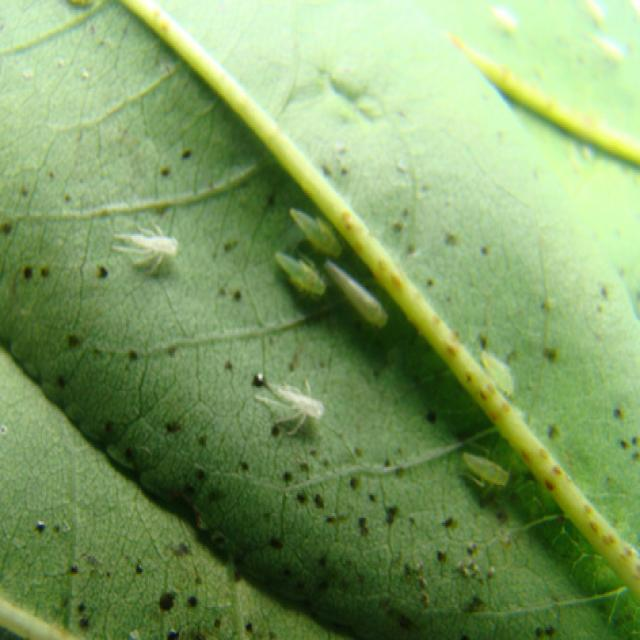Yechan: (320, 260, 396, 337)
